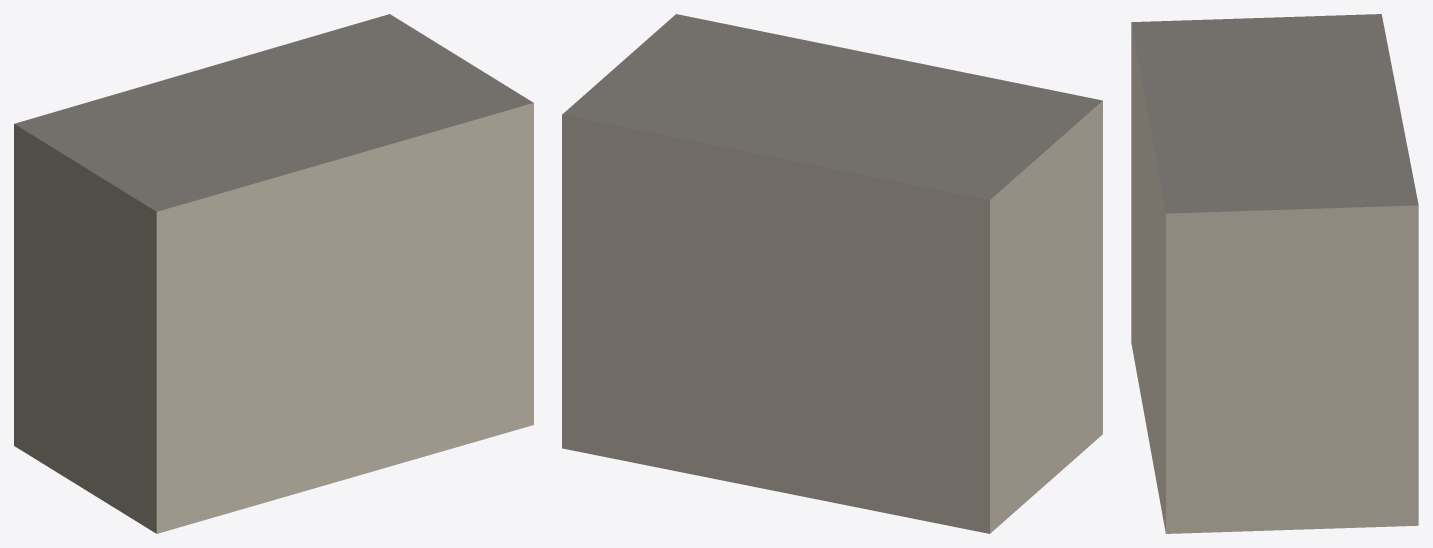
3 views of the same model, side by side, from view 1: azimuth 30°, elevation 25°; view 2: azimuth 150°, elevation 25°; view 3: azimuth 270°, elevation 25° (orthographic). The views are drawn at different scales.
Visible parts, largest first — view 1: HP-w858824314; view 2: HP-w858824314; view 3: HP-w858824314.
Boxes of the visible parts, <box> form: HP-w858824314: <box>14,14,533,533</box>; HP-w858824314: <box>562,14,1102,533</box>; HP-w858824314: <box>1131,14,1418,533</box>.
Size of the model in its own units: 24.05 by 18 by 14.64.
